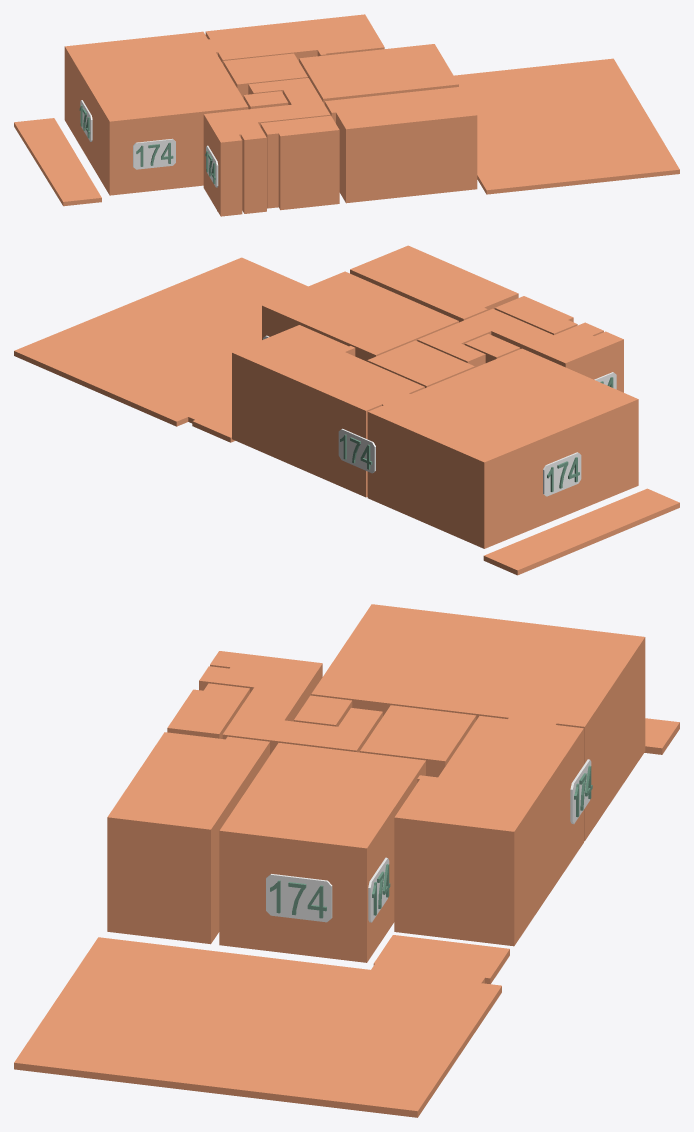
3 views of the same model, one above another, from view 1: azimuth 30°, elevation 25°; view 2: azimuth 150°, elevation 25°; view 3: azimuth 270°, elevation 25° (orthographic). The views are drawn at different scales.
Visible parts, largest first — view 1: g_8, g_7, g_0, g_5, g_6, g_1, g_2, g_9, g_3, g_33, g_4; view 2: g_7, g_8, g_2, g_1, g_5, g_0, g_9, g_3, g_6, g_13, g_17, g_4; view 3: g_8, g_7, g_2, g_1, g_0, g_5, g_3, g_6, g_25, g_4, g_9.
Part boxes in pixels (x1,y1,x2,y2): g_8: (454, 58, 679, 194); g_7: (64, 31, 248, 195); g_0: (324, 87, 477, 203); g_5: (203, 78, 330, 216); g_6: (260, 115, 339, 210); g_1: (299, 44, 458, 104); g_2: (205, 14, 384, 64); g_9: (14, 118, 101, 206); g_3: (223, 53, 307, 98); g_33: (133, 138, 175, 169); g_4: (243, 91, 288, 109); g_7: (367, 348, 638, 548); g_8: (14, 257, 307, 442); g_2: (232, 325, 424, 497); g_1: (262, 271, 458, 361); g_5: (417, 308, 623, 392); g_0: (350, 245, 518, 322); g_9: (483, 488, 679, 575); g_3: (367, 340, 474, 387); g_6: (494, 296, 577, 334); g_13: (543, 452, 581, 496); g_17: (338, 428, 375, 473); g_4: (464, 334, 520, 362); g_8: (14, 935, 509, 1117); g_7: (311, 604, 645, 841); g_2: (394, 716, 583, 946); g_1: (219, 743, 425, 962); g_0: (107, 732, 269, 944); g_5: (199, 651, 382, 754); g_3: (360, 705, 476, 777); g_6: (167, 683, 249, 738); g_25: (266, 874, 332, 922); g_4: (294, 695, 352, 726); g_9: (644, 718, 679, 754).
Size of the model in its own units: 20.39 by 2.74 by 13.57.
